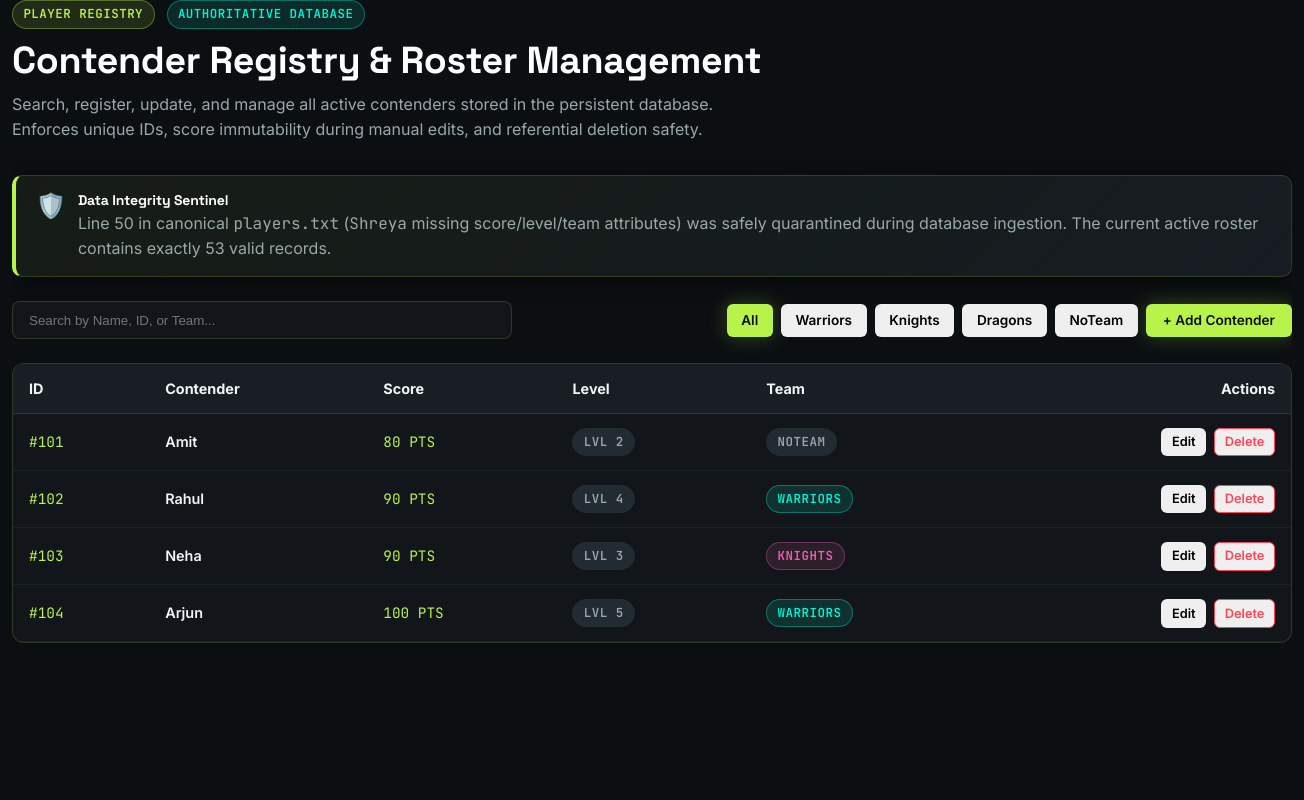
Test: PlayerRegistryView Component › filters contenders by team tab
Expected: the text "Amit" is shown, [149,414,367,470]
Click 'Knights' team filter
Step 1. Click the button "Knights" → (914, 320), box [875,304,954,337]
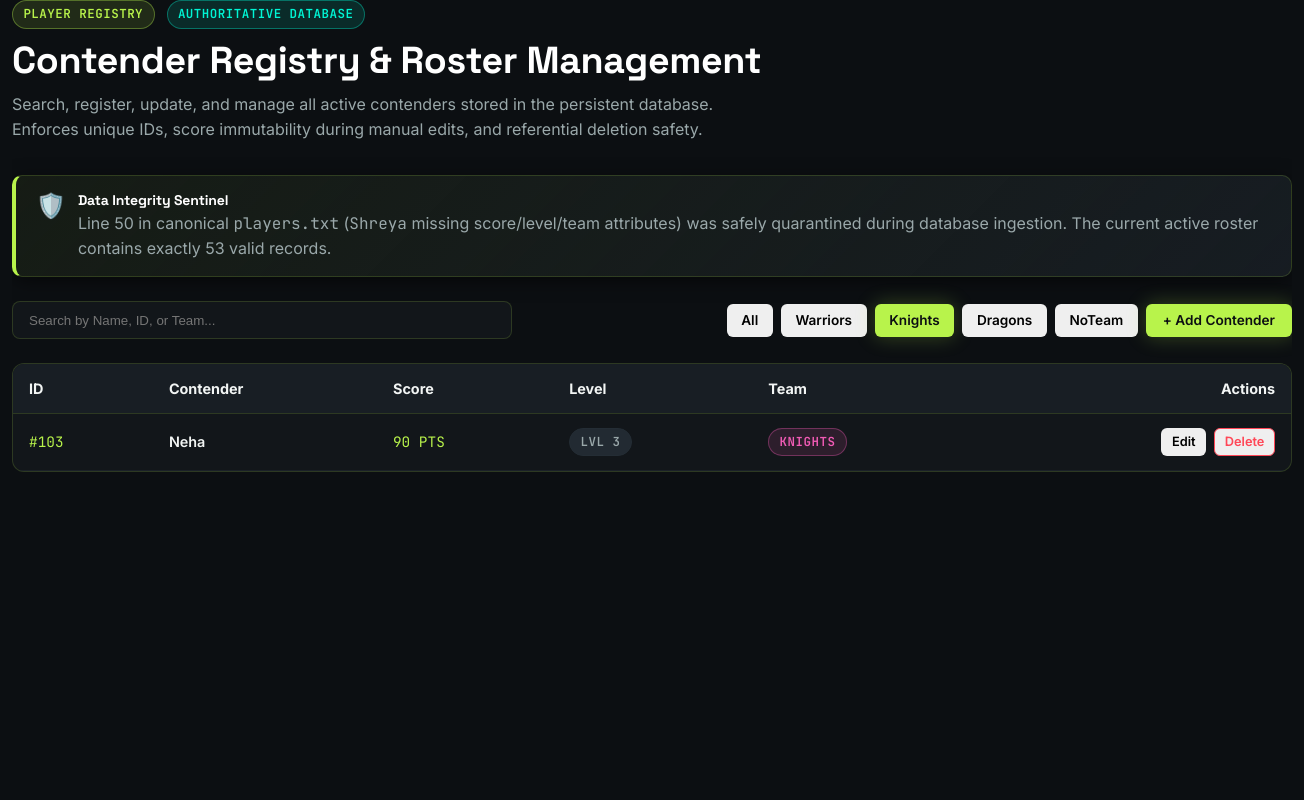
Expected: the text "Neha" is shown, [153,414,377,470]
Now the text "Rahul" is gone
